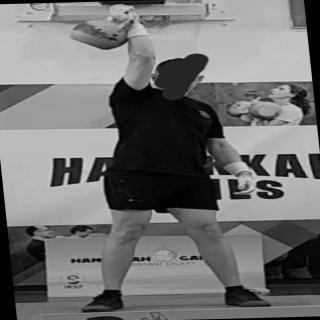kettlebell: (64, 10, 147, 54)
